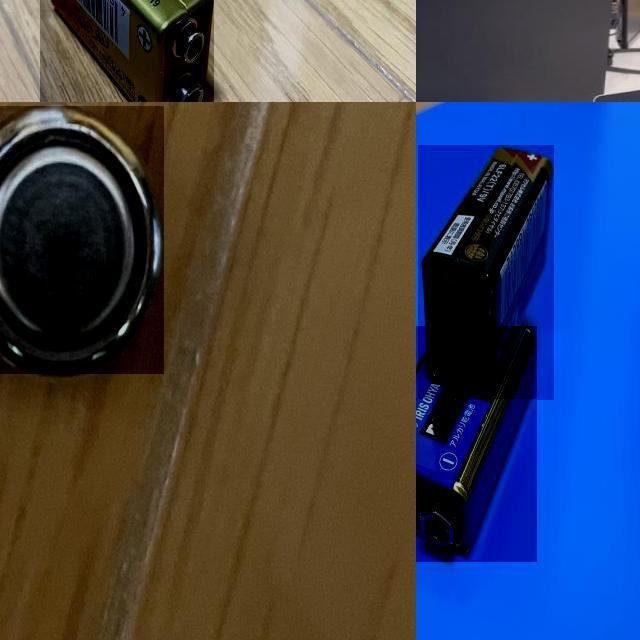9V: (419, 145, 555, 400), (416, 326, 537, 562), (40, 0, 214, 102)
